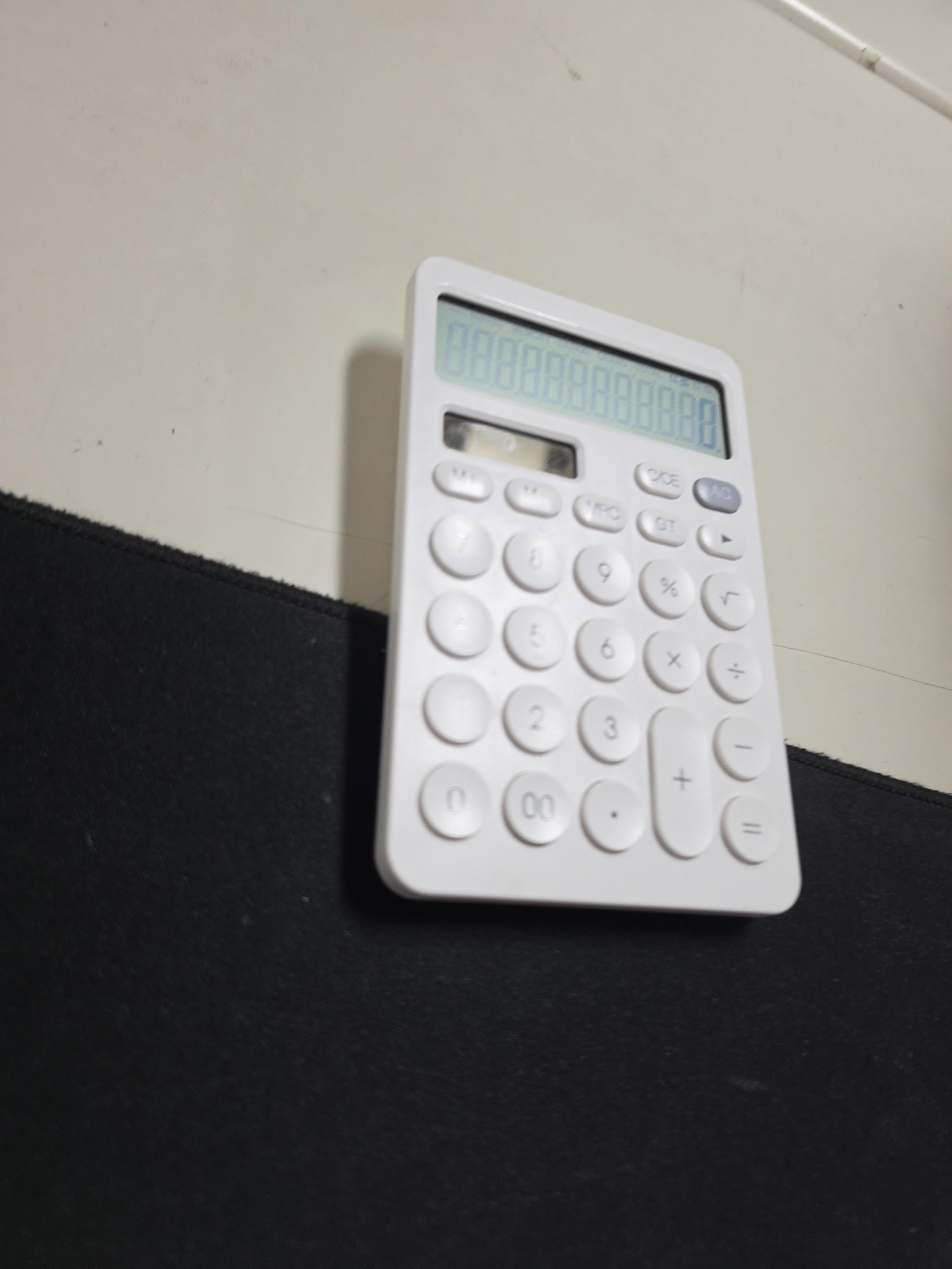calculator: (374, 256, 803, 917)
